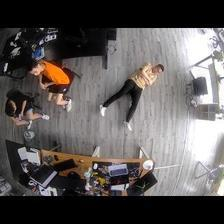fall: (95, 62, 165, 129)
normal: (29, 60, 76, 110), (5, 94, 51, 125)
